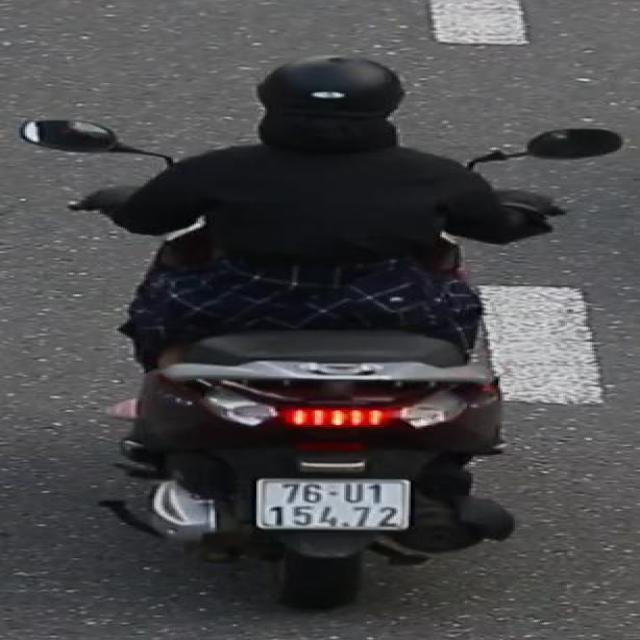LP: (250, 471, 419, 533)
helmet: (248, 50, 415, 155)
